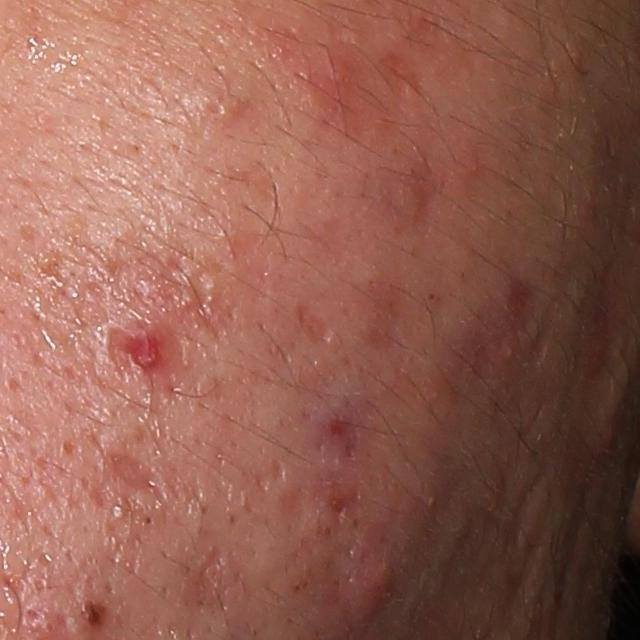atrophic_scar: (104, 441, 172, 515), (185, 544, 245, 621), (272, 484, 314, 544), (104, 321, 138, 383), (300, 301, 339, 349)
nevus: (79, 591, 112, 632)
papule: (350, 550, 408, 617), (119, 317, 167, 376)
